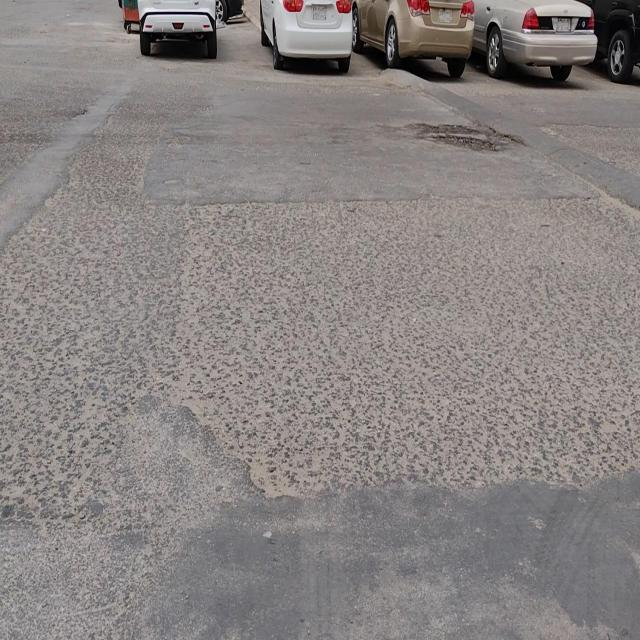Potholes: (417, 120, 516, 156)
